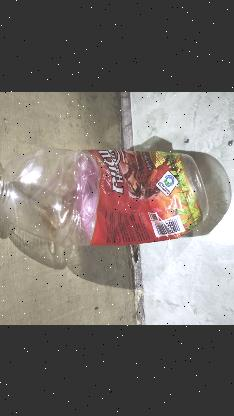Plastic Bottle: (0, 144, 209, 245)
